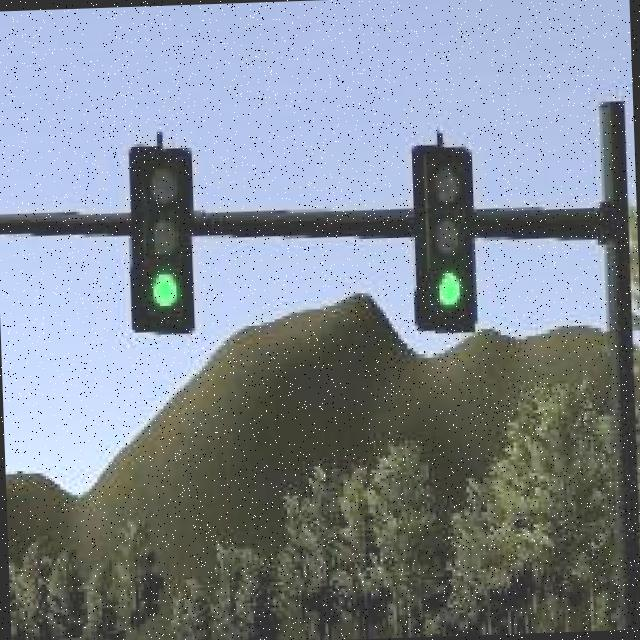Zielone swiatlo: (126, 144, 195, 332), (414, 140, 476, 334)
